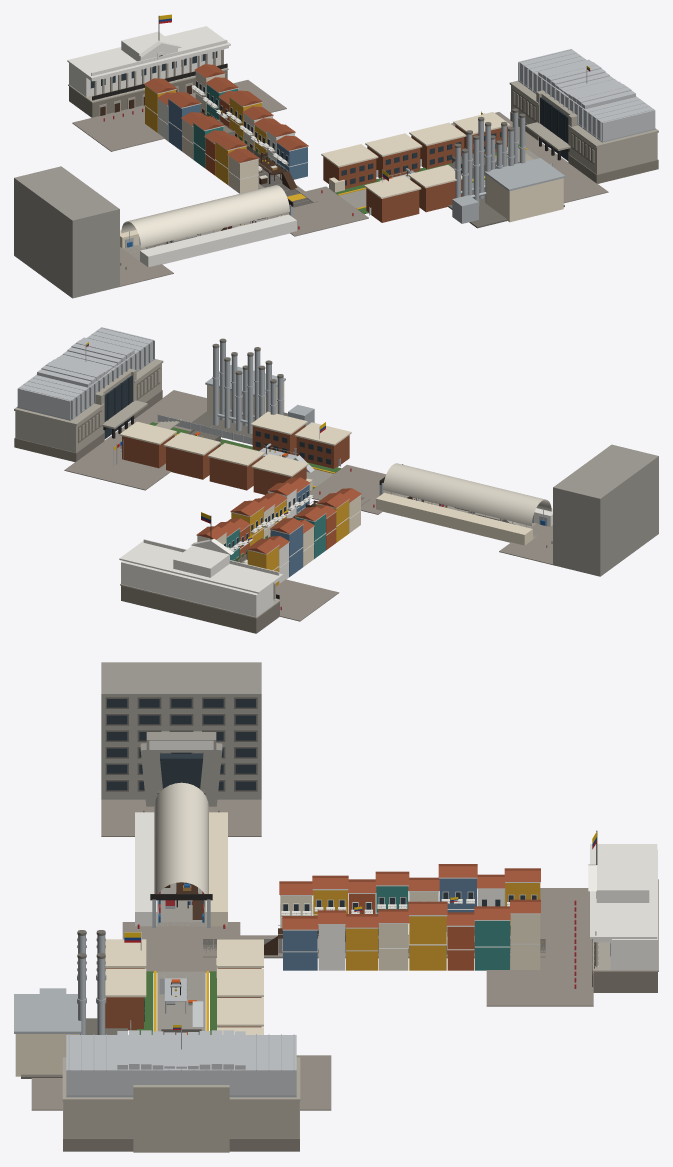
Rendered from quito.glb.
The picture shows the model from 3 angles, top to bottom: view 1: azimuth 30°, elevation 25°; view 2: azimuth 150°, elevation 25°; view 3: azimuth 270°, elevation 25°; orthographic projection. The views are drawn at different scales.
Visible parts, largest first — view 1: volumen_principal, edificio_administrativo (×5), boveda_toldo, alero_admin (×6), muro (×7), celosia, bloque_locales, plaza_grande, nave_turbinas, cornisa_palacio, losa_cruce, ala_piedra (+18 smaller); view 2: volumen_principal, edificio_administrativo (×6), boveda_toldo, alero_admin (×6), explanada_asamblea, celosia, cuerpo_alto, bloque_locales, muro (×5), cornisa_palacio, basamento, ala_piedra (+11 smaller); view 3: muro (×9), volumen_principal, celosia, plaza_grande, marco_central, alero_admin (×5), boveda_toldo, ala_piedra (×2), bloque_locales (×2), cornisa_palacio, losa_cruce, explanada_fiscalia (+13 smaller).
Part boxes in pixels (left/top/right/bottom): volumen_principal: left=14, top=166, right=119, bottom=298; edificio_administrativo (×5): left=323, top=135, right=464, bottom=222; boveda_toldo: left=121, top=185, right=289, bottom=247; alero_admin (×6): left=321, top=112, right=510, bottom=198; muro (×7): left=145, top=85, right=307, bottom=193; celosia: left=519, top=49, right=655, bottom=141; bloque_locales: left=140, top=214, right=296, bottom=267; plaza_grande: left=72, top=80, right=286, bottom=151; nave_turbinas: left=486, top=175, right=563, bottom=222; cornisa_palacio: left=67, top=26, right=230, bottom=79; losa_cruce: left=269, top=186, right=368, bottom=236; ala_piedra: left=571, top=130, right=657, bottom=174; volumen_principal: left=553, top=444, right=658, bottom=576; edificio_administrativo (×6): left=122, top=424, right=349, bottom=494; boveda_toldo: left=383, top=463, right=551, bottom=526; alero_admin (×6): left=119, top=411, right=351, bottom=477; explanada_asamblea: left=64, top=390, right=213, bottom=490; celosia: left=17, top=327, right=154, bottom=419; cuerpo_alto: left=121, top=561, right=273, bottom=617; bloque_locales: left=376, top=492, right=532, bottom=545; muro (×5): left=231, top=500, right=348, bottom=585; cornisa_palacio: left=119, top=541, right=283, bottom=593; basamento: left=121, top=585, right=279, bottom=633; ala_piedra: left=15, top=407, right=103, bottom=452; muro (×9): left=283, top=878, right=540, bottom=970; volumen_principal: left=101, top=662, right=261, bottom=799; celosia: left=66, top=1035, right=296, bottom=1095; plaza_grande: left=486, top=888, right=593, bottom=1006; marco_central: left=133, top=1085, right=229, bottom=1152; alero_admin (×5): left=105, top=939, right=263, bottom=1026; boveda_toldo: left=154, top=782, right=208, bottom=893; ala_piedra (×2): left=63, top=1101, right=299, bottom=1138; bloque_locales (×2): left=135, top=812, right=227, bottom=926; cornisa_palacio: left=590, top=844, right=657, bottom=938; losa_cruce: left=122, top=922, right=240, bottom=972; explanada_fiscalia: left=101, top=799, right=261, bottom=836.
Size of the model in its own units: 170 by 24.23 by 120.
